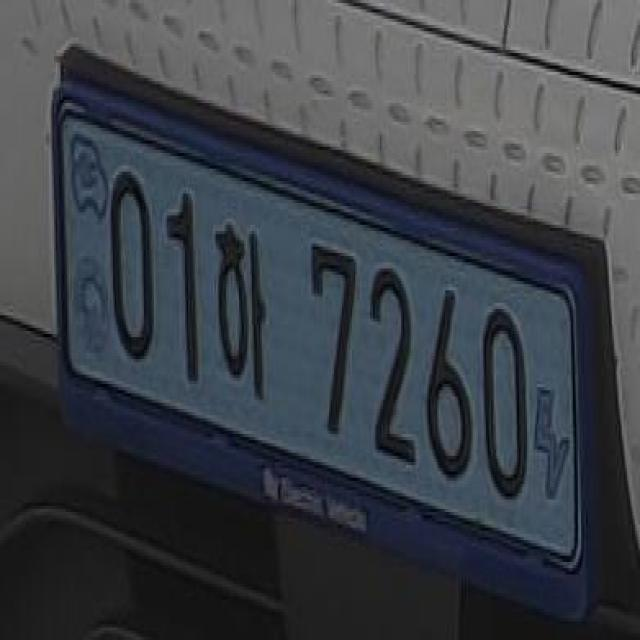EV_plate: (50, 68, 587, 601)
